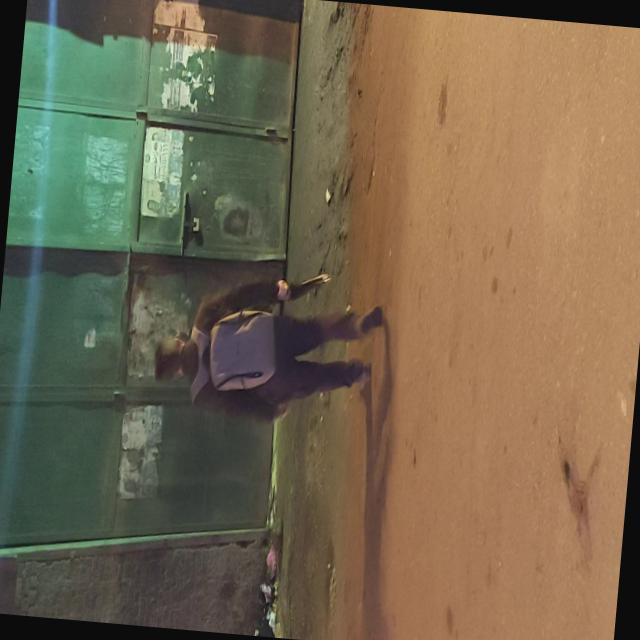long weapon: (255, 251, 338, 318)
